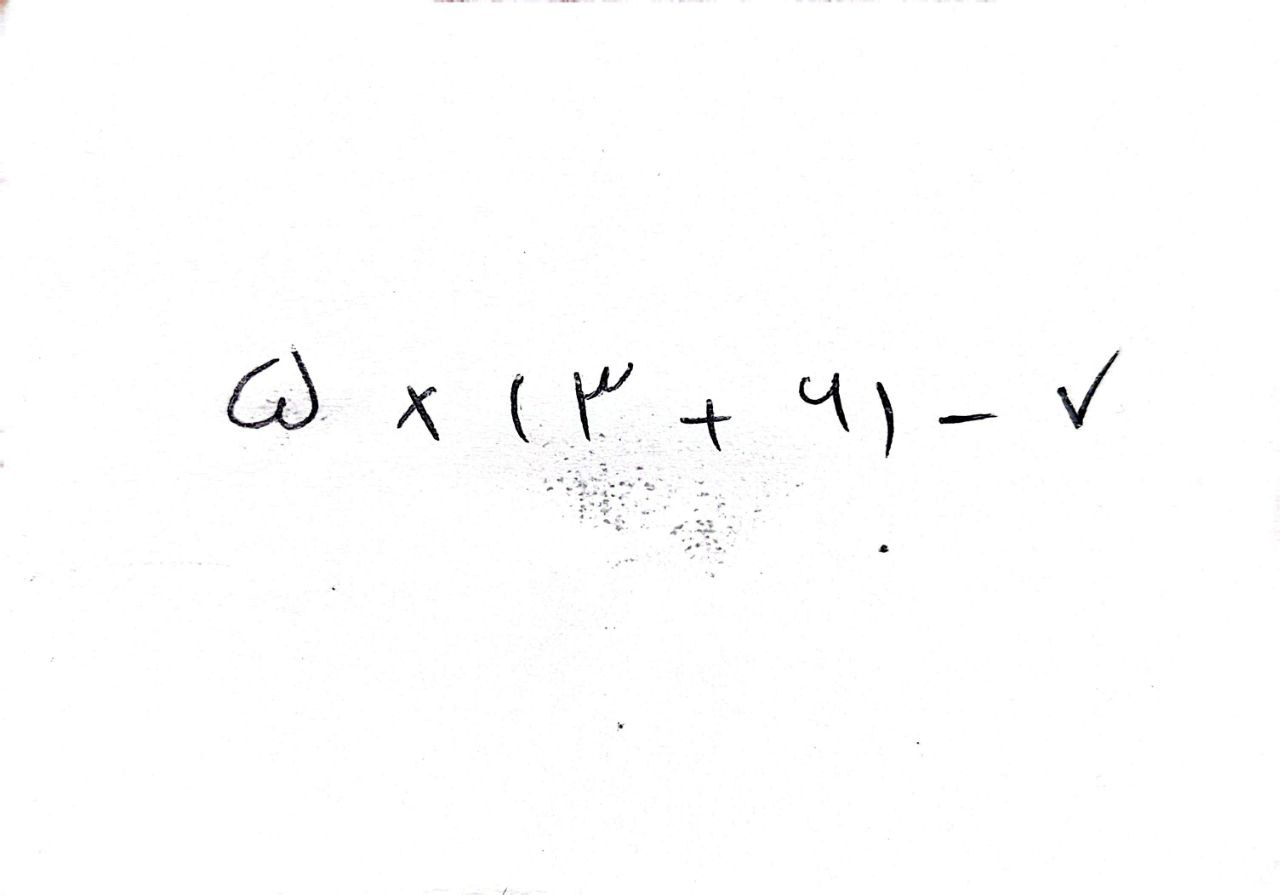character: (226, 342, 323, 431), (1056, 348, 1121, 437), (572, 361, 634, 442), (795, 370, 852, 437), (676, 397, 731, 456), (393, 386, 440, 444), (871, 377, 897, 459), (509, 374, 529, 445), (935, 410, 1000, 429)
